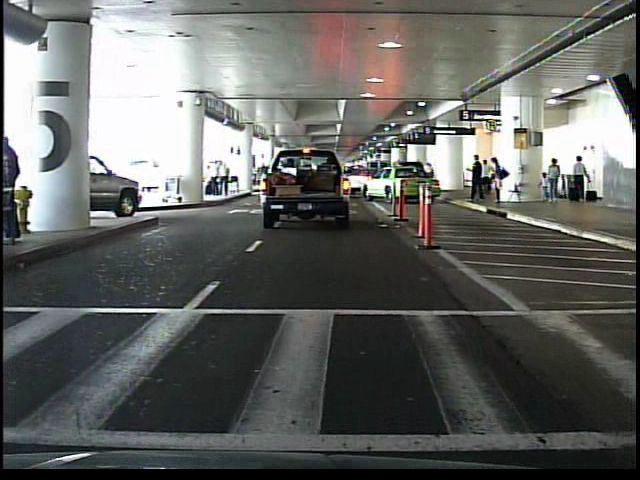person: (468, 154, 487, 206), (492, 157, 508, 206), (482, 158, 492, 199)
